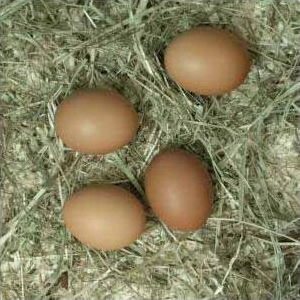egg: (164, 26, 251, 95), (144, 148, 213, 231), (54, 89, 140, 153), (64, 184, 145, 251)
